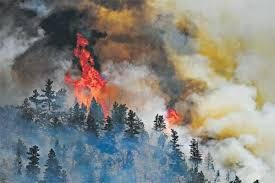fire: (67, 35, 113, 114), (164, 106, 183, 126)
